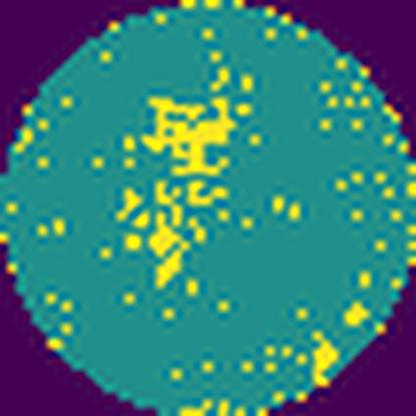Loc: (144, 92, 236, 179), (120, 180, 190, 286)
